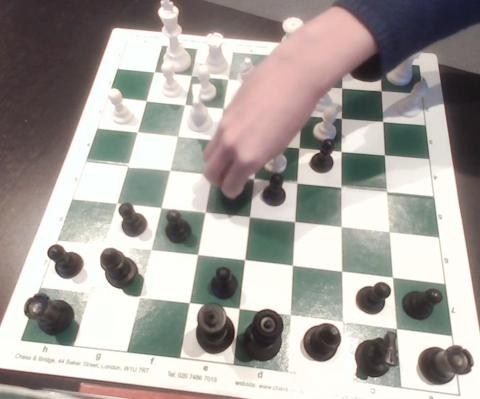xcorner: (377, 113, 393, 129), (336, 79, 352, 95), (243, 210, 259, 226), (161, 162, 177, 178), (169, 127, 185, 143), (107, 196, 123, 212), (390, 322, 406, 337), (384, 225, 400, 240), (379, 147, 395, 162), (375, 83, 391, 98), (337, 265, 352, 281), (337, 220, 352, 236), (336, 143, 352, 158), (336, 110, 352, 125), (284, 310, 300, 325), (287, 260, 303, 275), (290, 215, 305, 231), (292, 175, 307, 191), (238, 255, 254, 270), (259, 73, 275, 88), (181, 298, 197, 313), (190, 249, 205, 265), (197, 206, 213, 221), (204, 167, 220, 182), (216, 99, 232, 114), (221, 70, 237, 85), (152, 201, 168, 216), (177, 95, 192, 111), (184, 66, 199, 82), (81, 286, 96, 302), (129, 123, 144, 139), (147, 63, 162, 79), (387, 271, 402, 286), (382, 184, 397, 199), (337, 316, 352, 331), (337, 180, 352, 195), (294, 139, 309, 154), (296, 106, 311, 121), (298, 76, 313, 91), (233, 304, 248, 319), (248, 171, 263, 186), (252, 135, 267, 150), (256, 103, 271, 118), (211, 131, 226, 146), (131, 292, 146, 307), (142, 244, 157, 259), (95, 239, 110, 254), (119, 158, 134, 173), (138, 92, 153, 107)
